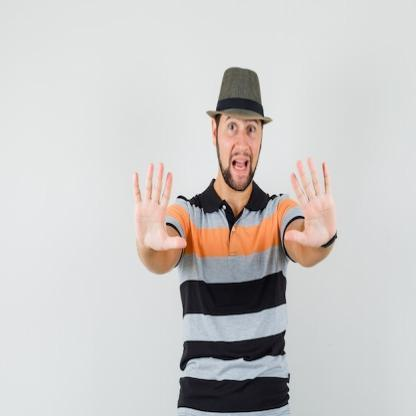stop: (131, 156, 188, 261), (283, 155, 339, 252)
